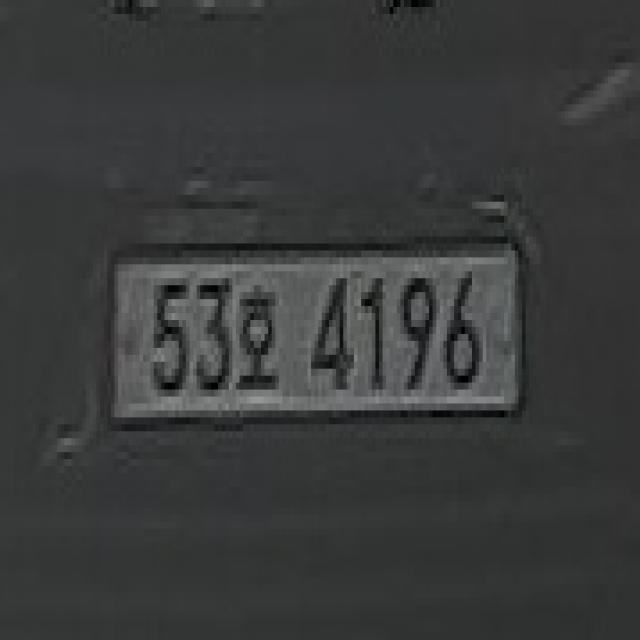1: (354, 264, 393, 396)
3: (193, 271, 232, 383)
4: (307, 258, 354, 390)
5: (150, 278, 190, 383)
6: (440, 264, 490, 390)
9: (390, 258, 440, 397)
ho: (236, 272, 282, 396)
license_plate: (100, 216, 526, 424)
